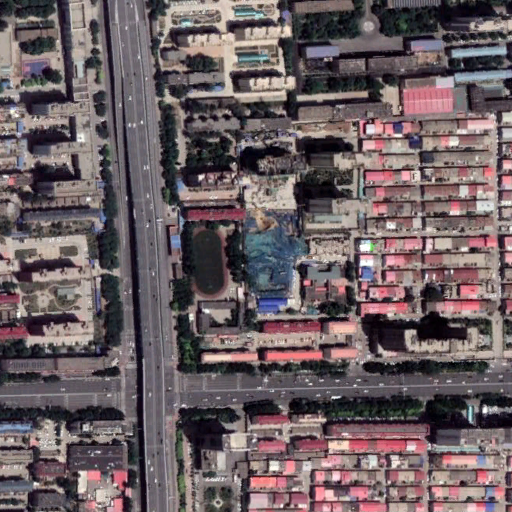cw: (241, 209, 302, 300)
